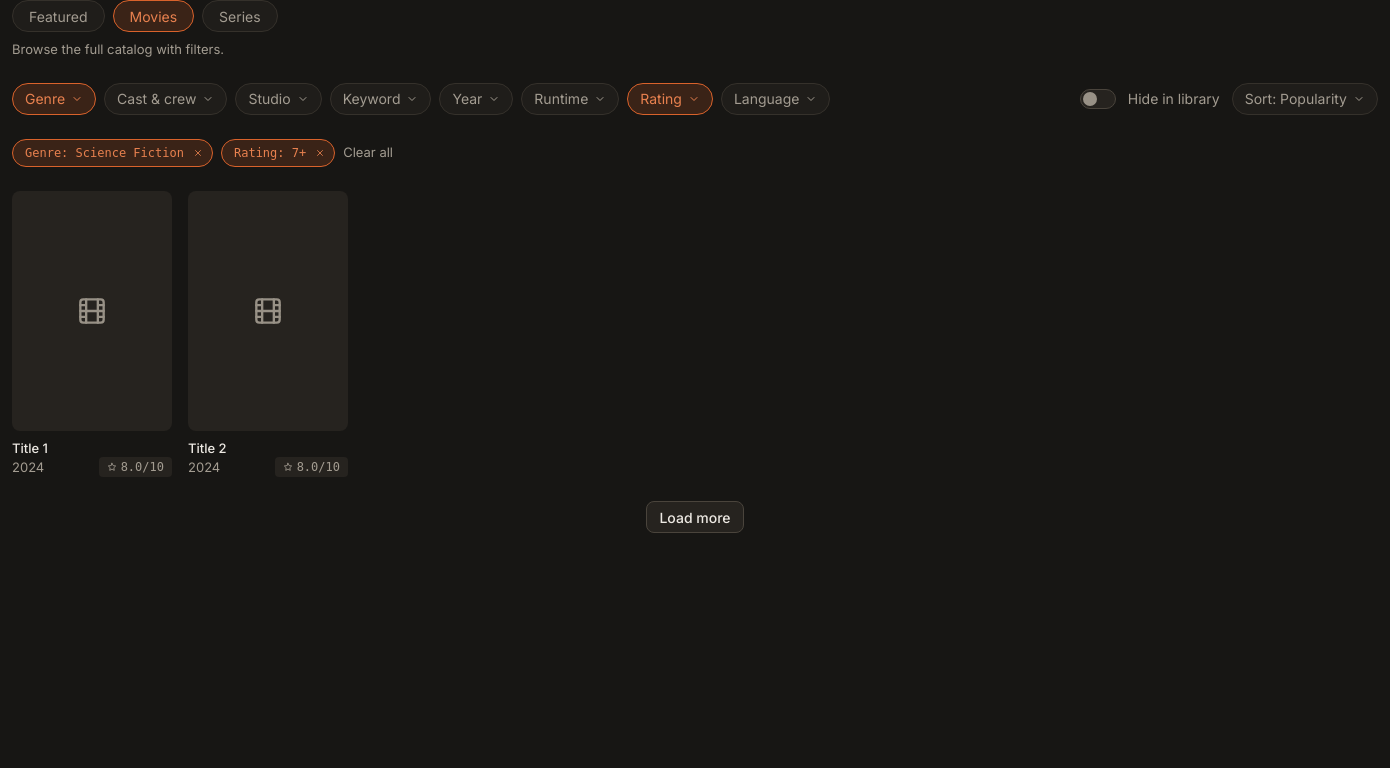
it: a filtered movie scope › clears every chip at once, and returns to the editorial landing
The image size is (1390, 768).
Click the button "Clear all".
click(368, 153)  # box x1=343 y1=143 x2=393 y2=162
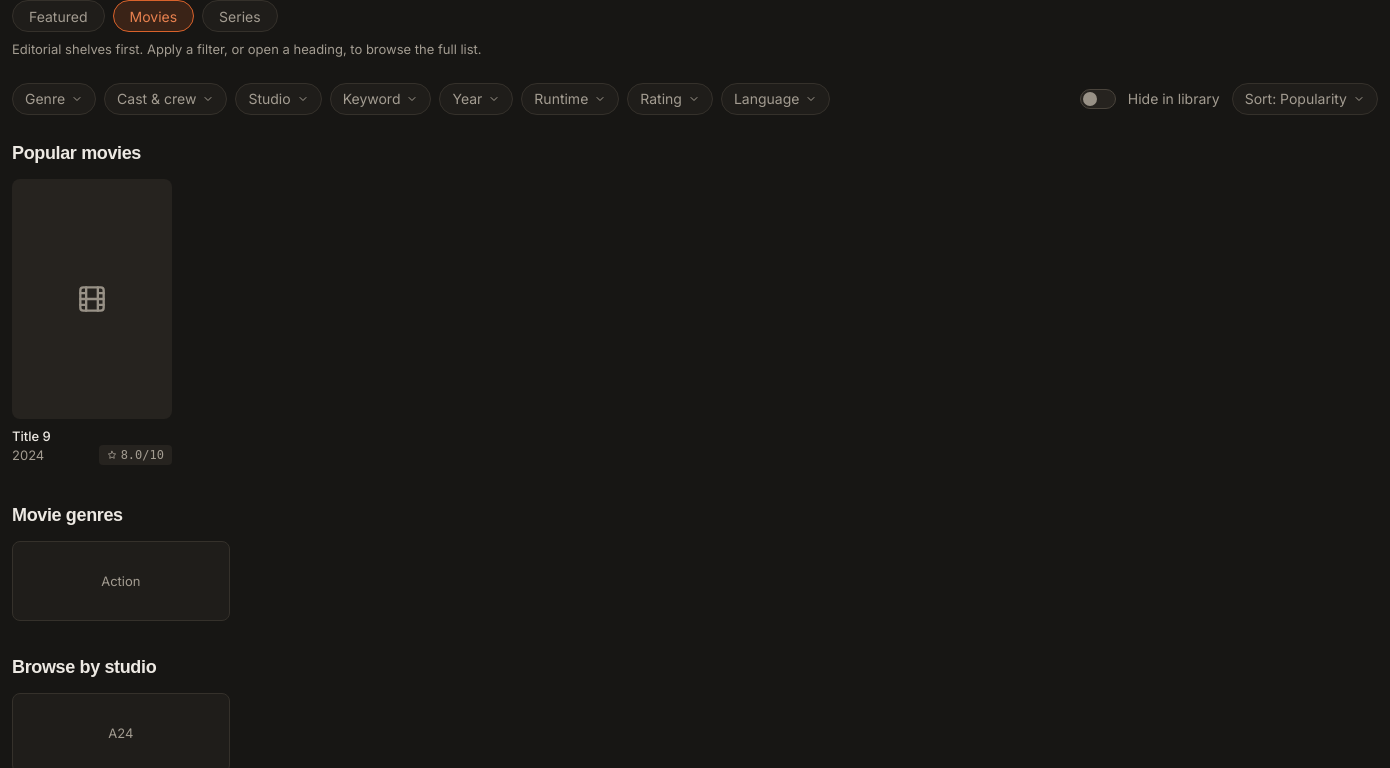
Check: the text "Popular movies" is shown, box x1=12 y1=143 x2=141 y2=163
